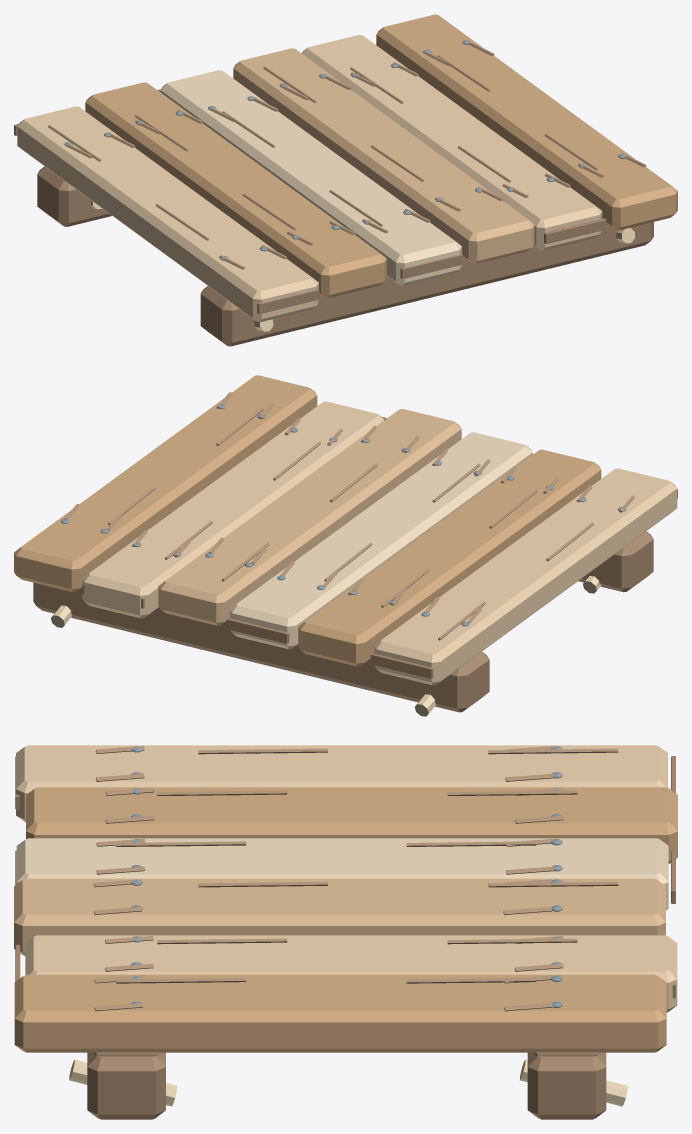
The model's file is foundation_2m.glb.
3 views of the same model, one above another, from view 1: azimuth 30°, elevation 25°; view 2: azimuth 150°, elevation 25°; view 3: azimuth 270°, elevation 25° (orthographic). The views are drawn at different scales.
Parts seen in each view (by area): view 1: foundation_2m_wood_mid, foundation_2m_wood_light, foundation_2m_wood_honey, foundation_2m_wood_bleach, foundation_2m_wood_bark, foundation_2m_wood_seam, foundation_2m_iron, foundation_2m_rope; view 2: foundation_2m_wood_mid, foundation_2m_wood_light, foundation_2m_wood_honey, foundation_2m_wood_bleach, foundation_2m_wood_bark, foundation_2m_wood_seam, foundation_2m_rope, foundation_2m_iron; view 3: foundation_2m_wood_mid, foundation_2m_wood_light, foundation_2m_wood_honey, foundation_2m_wood_bleach, foundation_2m_wood_seam, foundation_2m_wood_bark, foundation_2m_rope, foundation_2m_iron.
Boxes of the visible parts, x1,y1,x2,y2 form: foundation_2m_wood_mid: (85, 14, 677, 297); foundation_2m_wood_light: (17, 35, 602, 321); foundation_2m_wood_honey: (233, 48, 534, 263); foundation_2m_wood_bleach: (160, 70, 461, 285); foundation_2m_wood_bark: (14, 89, 653, 346); foundation_2m_wood_seam: (48, 41, 646, 269); foundation_2m_iron: (64, 40, 625, 260); foundation_2m_rope: (91, 200, 635, 331); foundation_2m_wood_mid: (14, 375, 601, 666); foundation_2m_wood_light: (82, 401, 677, 685); foundation_2m_wood_honey: (158, 409, 461, 625); foundation_2m_wood_bleach: (229, 432, 532, 649); foundation_2m_wood_bark: (33, 417, 677, 712); foundation_2m_wood_seam: (64, 392, 634, 640); foundation_2m_rope: (51, 576, 601, 716); foundation_2m_iron: (61, 404, 626, 626); foundation_2m_wood_mid: (14, 787, 677, 1052); foundation_2m_wood_light: (16, 745, 677, 1012); foundation_2m_wood_honey: (14, 878, 665, 955); foundation_2m_wood_bleach: (16, 838, 668, 909); foundation_2m_wood_seam: (93, 746, 618, 1056); foundation_2m_wood_bark: (15, 756, 675, 1119); foundation_2m_rope: (69, 1059, 627, 1106); foundation_2m_iron: (131, 746, 562, 1007).
Size of the model in its own units: 1.97 by 0.3788 by 1.95.
